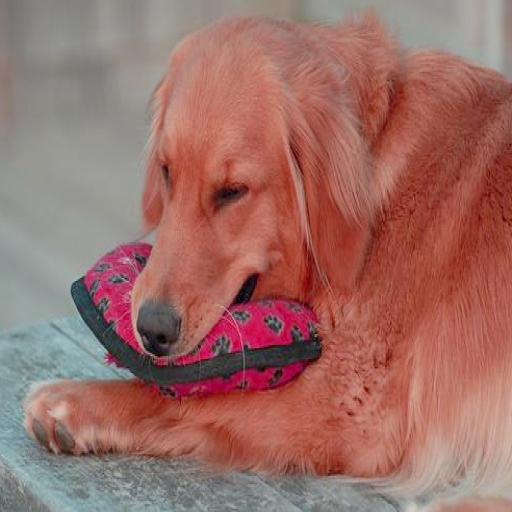dog_face: (144, 32, 357, 346)
